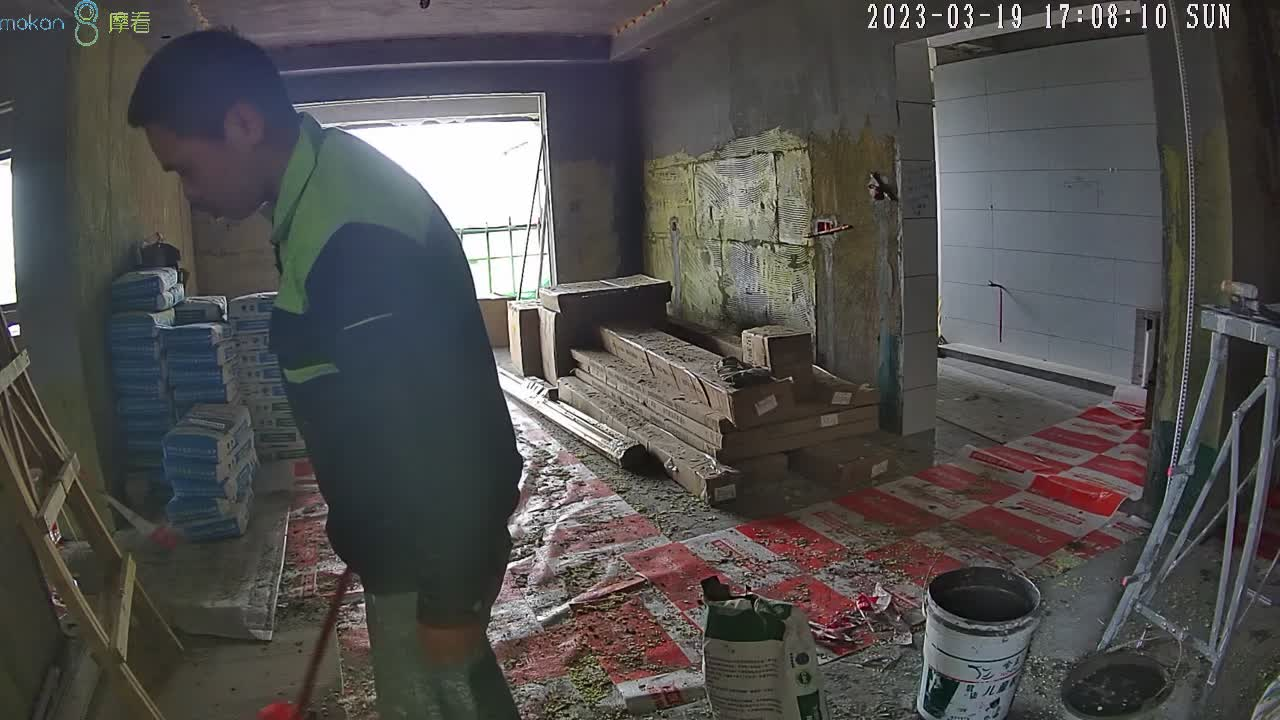people: (127, 29, 525, 720)
window: (418, 117, 553, 296)
